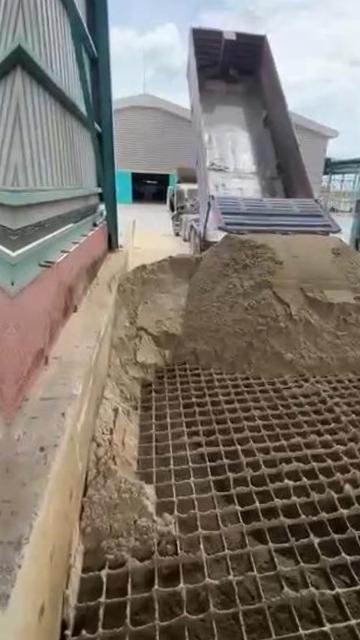sand: (83, 236, 360, 566)
